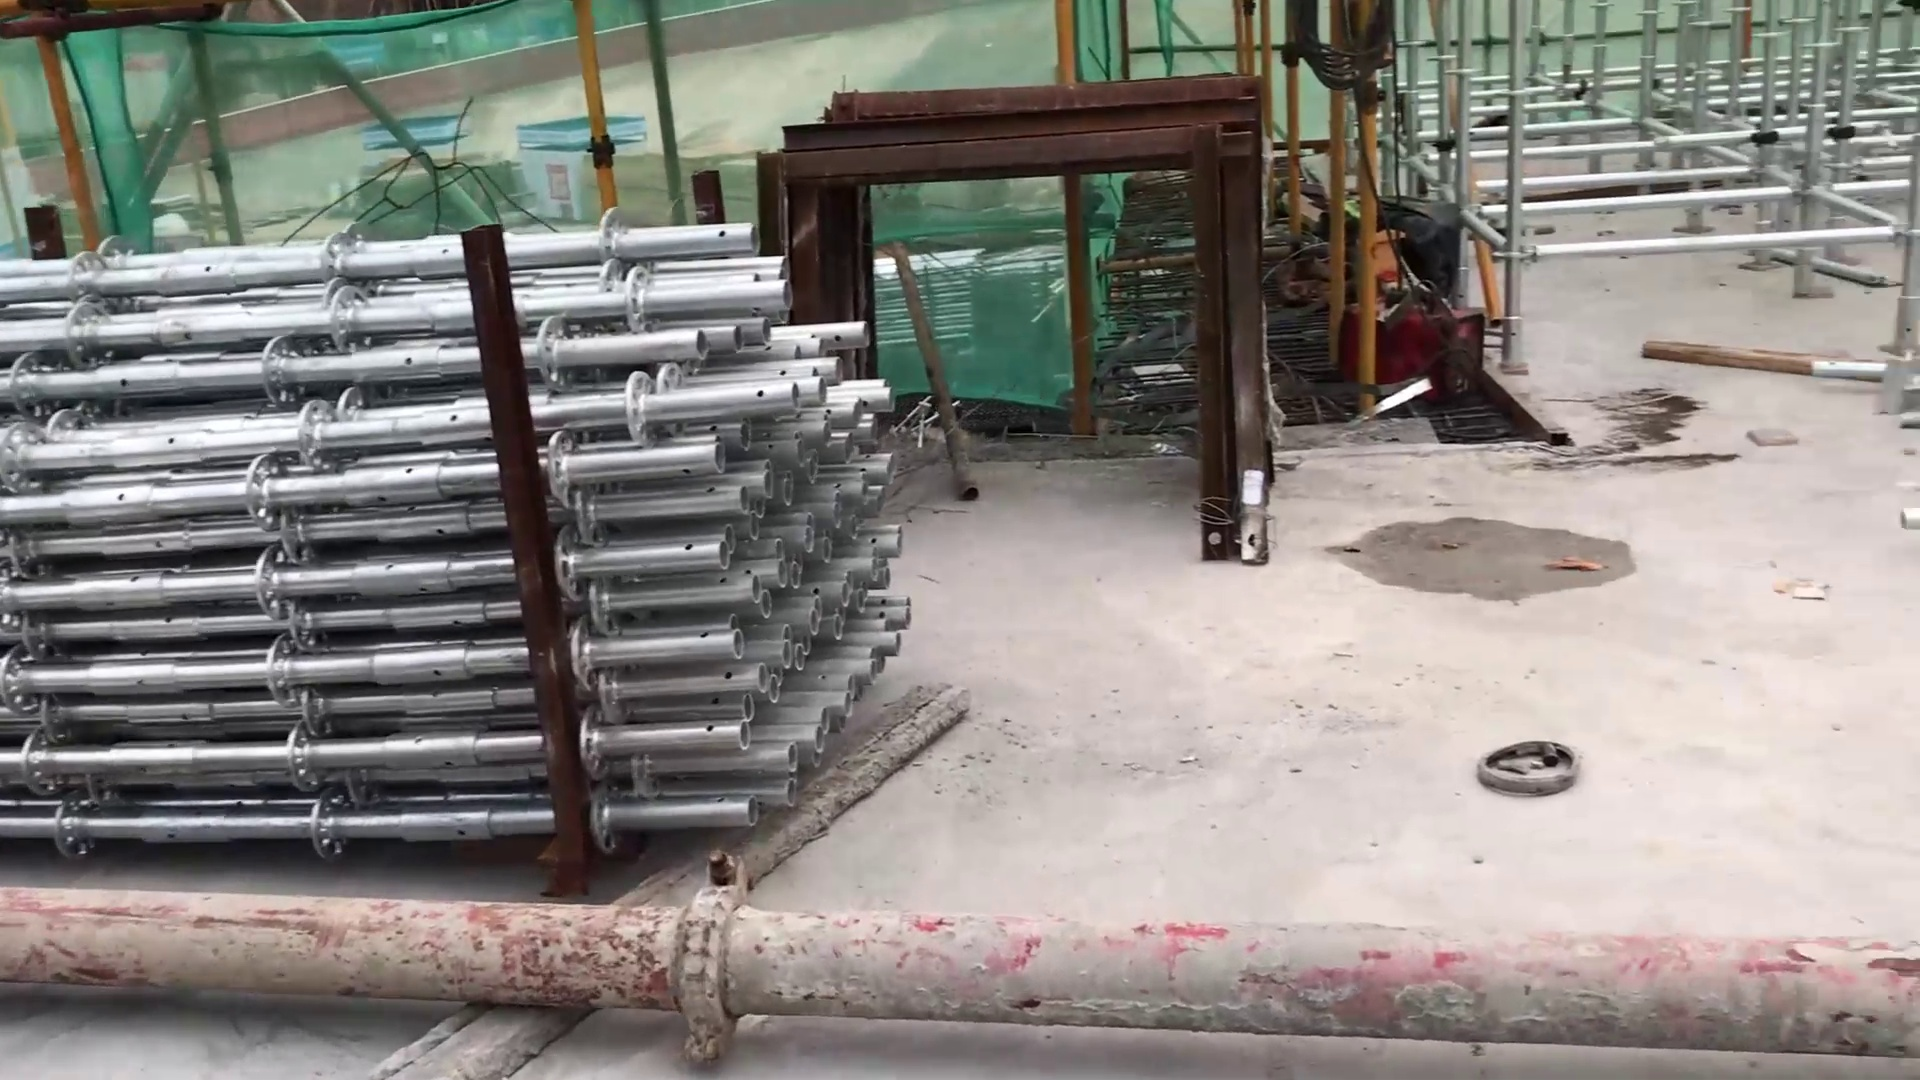scaffold: (1, 214, 919, 864)
